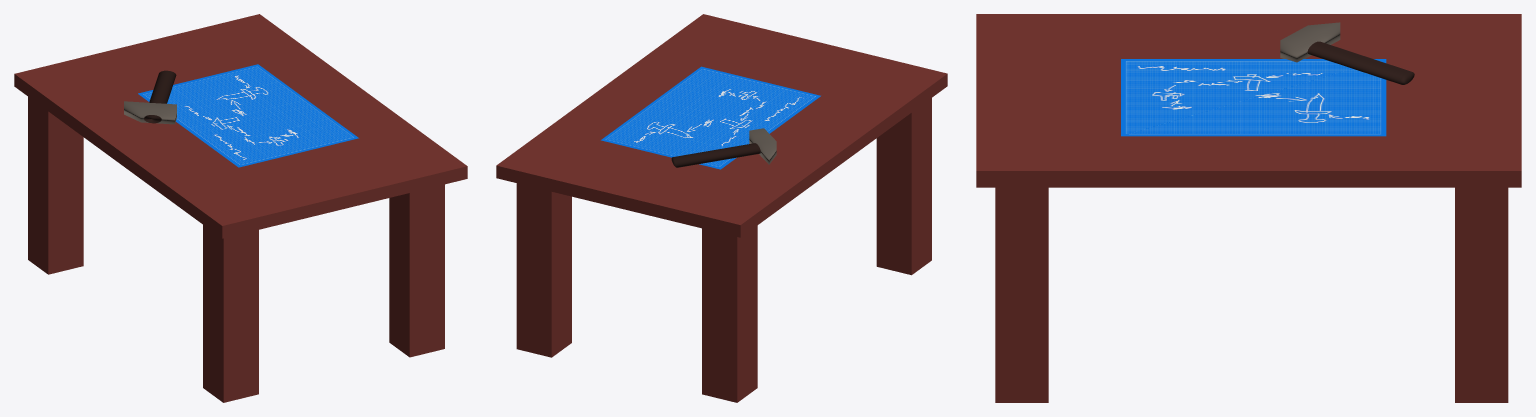
The model's file is Workbench1.fbx.
3 views of the same model, side by side, from view 1: azimuth 30°, elevation 25°; view 2: azimuth 150°, elevation 25°; view 3: azimuth 270°, elevation 25° (orthographic). The views are drawn at different scales.
Visible parts, largest first — view 1: Cube; view 2: Cube; view 3: Cube.
Part boxes in pixels (bbox=[...]): Cube: bbox=[14, 14, 467, 402]; Cube: bbox=[496, 14, 947, 402]; Cube: bbox=[976, 14, 1521, 402].
Bounding box in the file's own units: 407 × 313 × 597.
